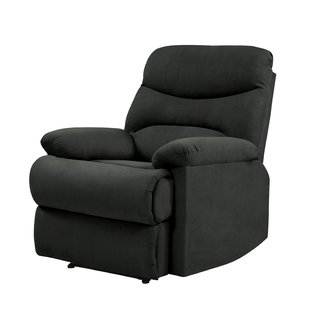chairs: (31, 26, 279, 284)
